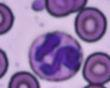N: (28, 32, 83, 82)
